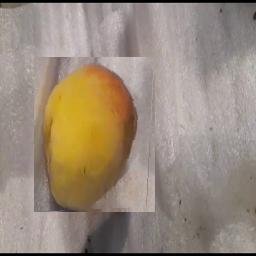Peach Semifresh: (35, 57, 156, 212)
